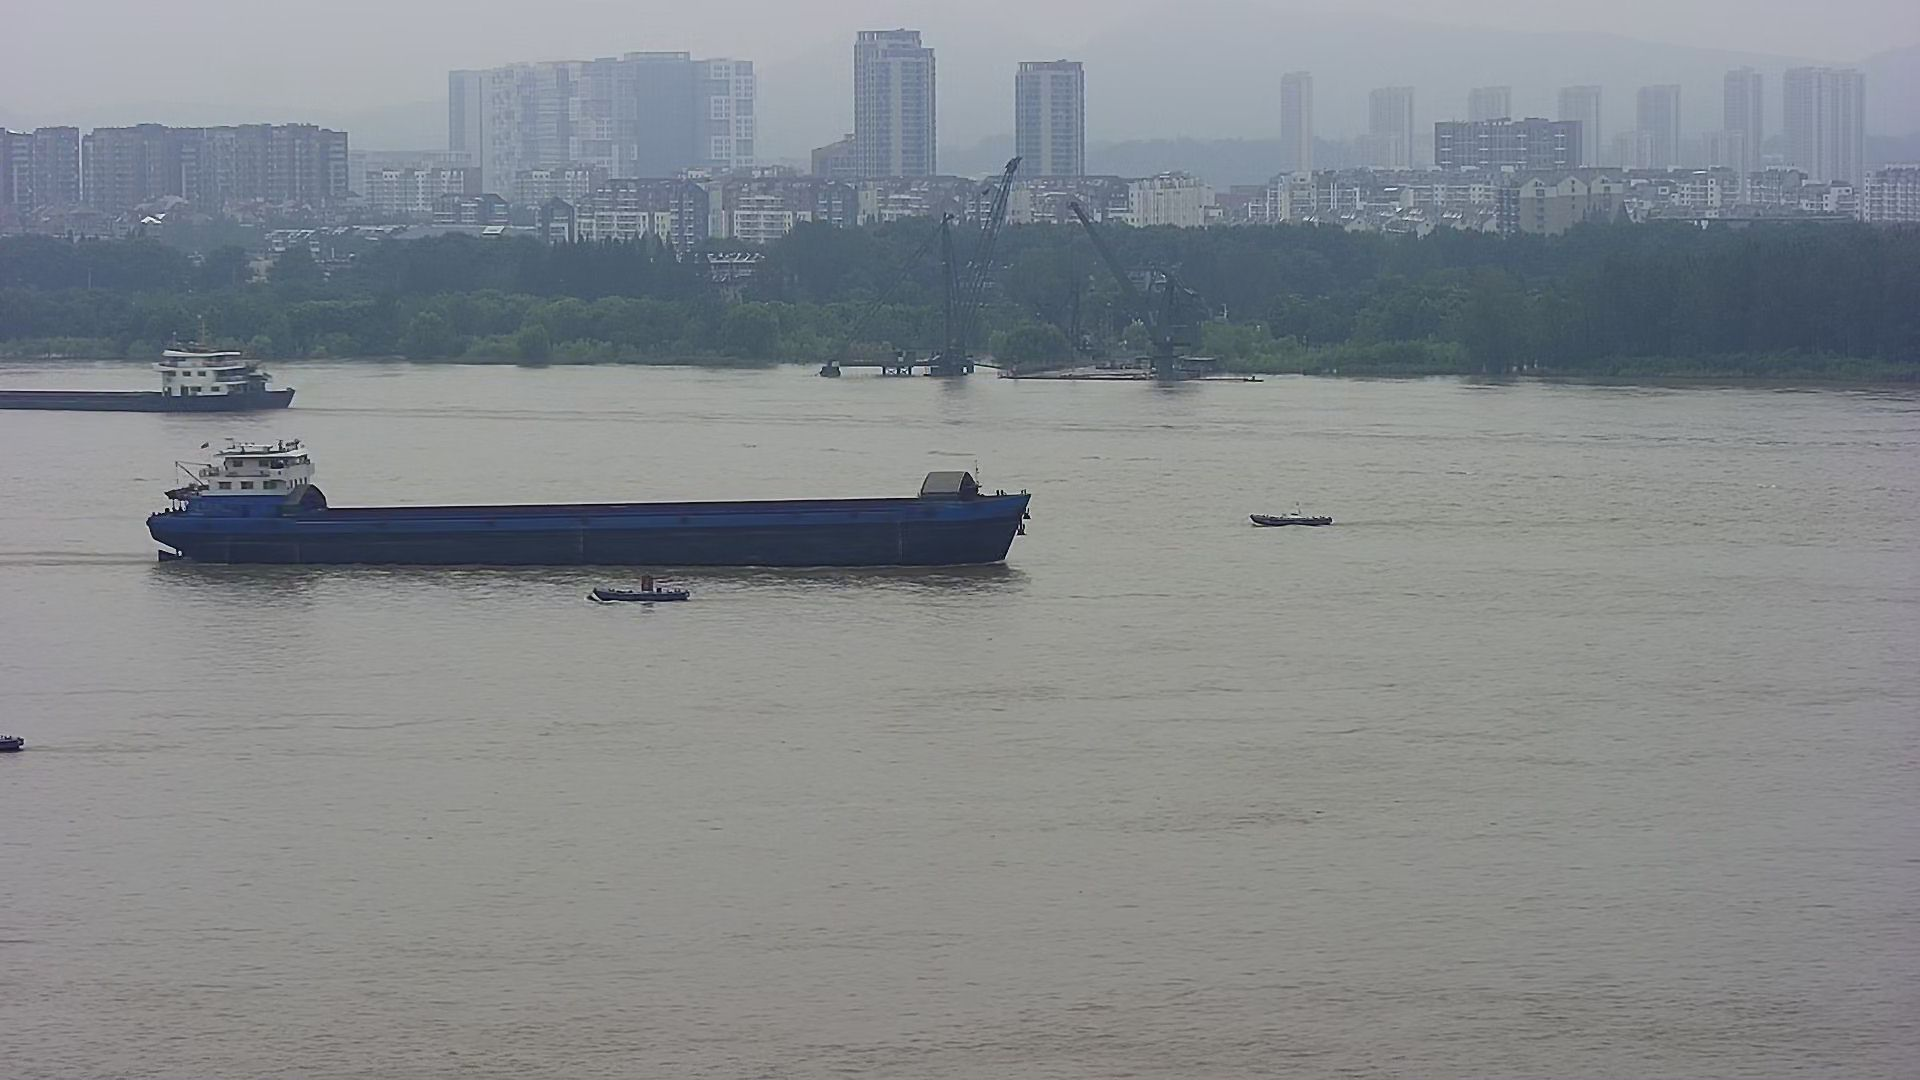boat: (587, 568, 694, 608), (1255, 497, 1337, 529), (1, 729, 26, 754)
harbor: (828, 349, 1241, 386)
ship: (148, 431, 1033, 572), (1, 328, 303, 415)
